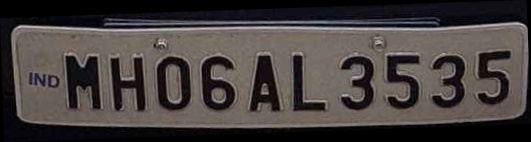character: (61, 50, 102, 111), (290, 49, 328, 112), (474, 48, 512, 107), (109, 53, 145, 115), (153, 54, 190, 111), (338, 52, 374, 110), (384, 50, 420, 108), (200, 52, 235, 111), (248, 52, 281, 114), (430, 51, 465, 108)
